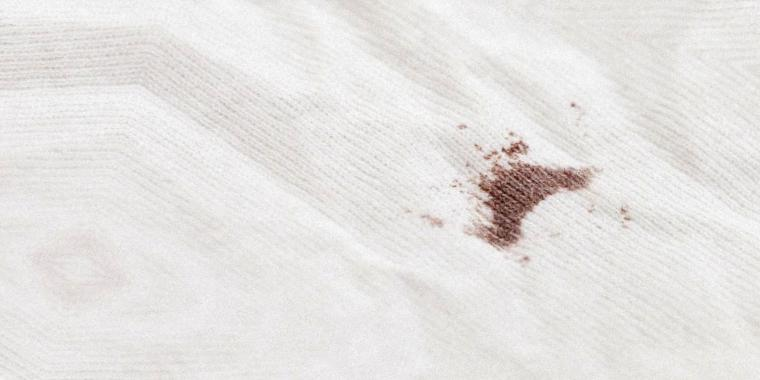stain: (465, 137, 597, 256)
